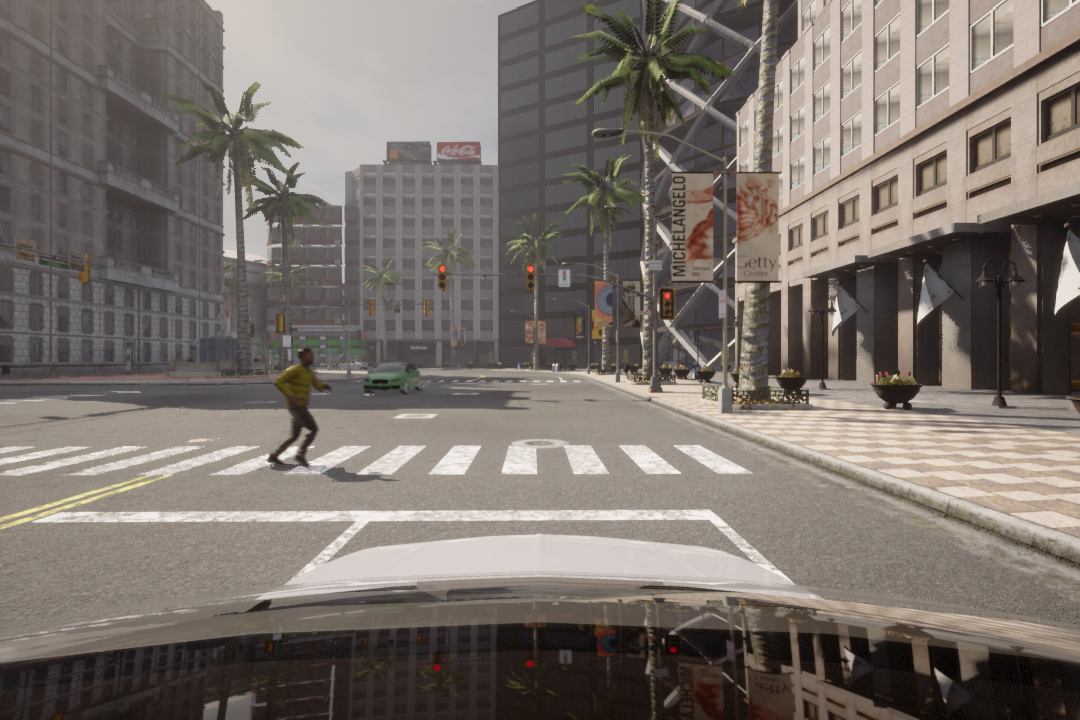TrafficLight: (662, 289, 680, 319), (521, 264, 539, 292), (436, 262, 447, 290)
walkside: (4, 443, 783, 487)
